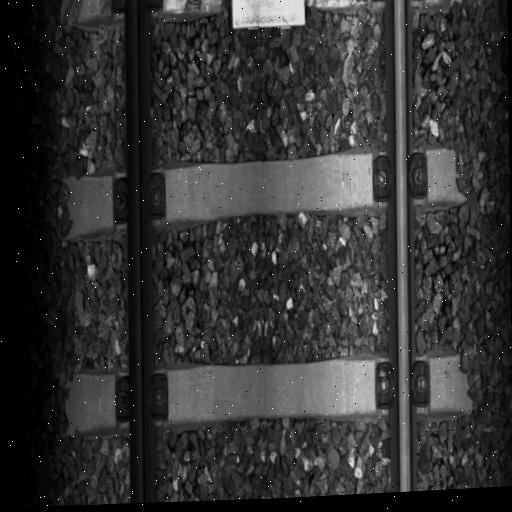clip: (372, 149, 429, 209), (110, 170, 167, 228), (375, 358, 431, 412), (114, 375, 169, 429)
sleeper: (53, 130, 478, 252), (58, 330, 484, 448)
